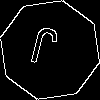J: (25, 25, 61, 76)
